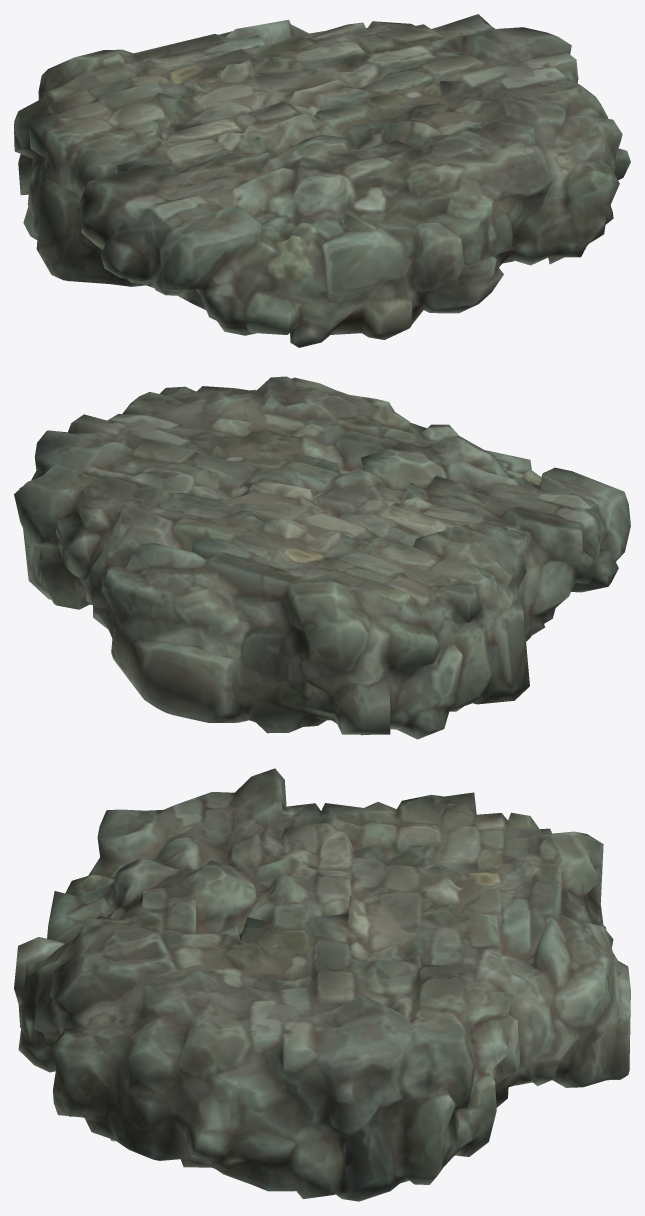
The model's file is RuinsWall_B.fbx.
3 renders of one model, top to bottom at view 1: azimuth 30°, elevation 25°; view 2: azimuth 150°, elevation 25°; view 3: azimuth 270°, elevation 25°, orthographic. The views are drawn at different scales.
Visible parts, largest first — view 1: RuinsWall_B; view 2: RuinsWall_B; view 3: RuinsWall_B.
Boxes of the visible parts, x1,y1,x2,y2 form: RuinsWall_B: (14,14,630,347); RuinsWall_B: (14,376,630,739); RuinsWall_B: (14,768,630,1201).
Bounding box in the file's own units: 1114 × 339 × 985.
